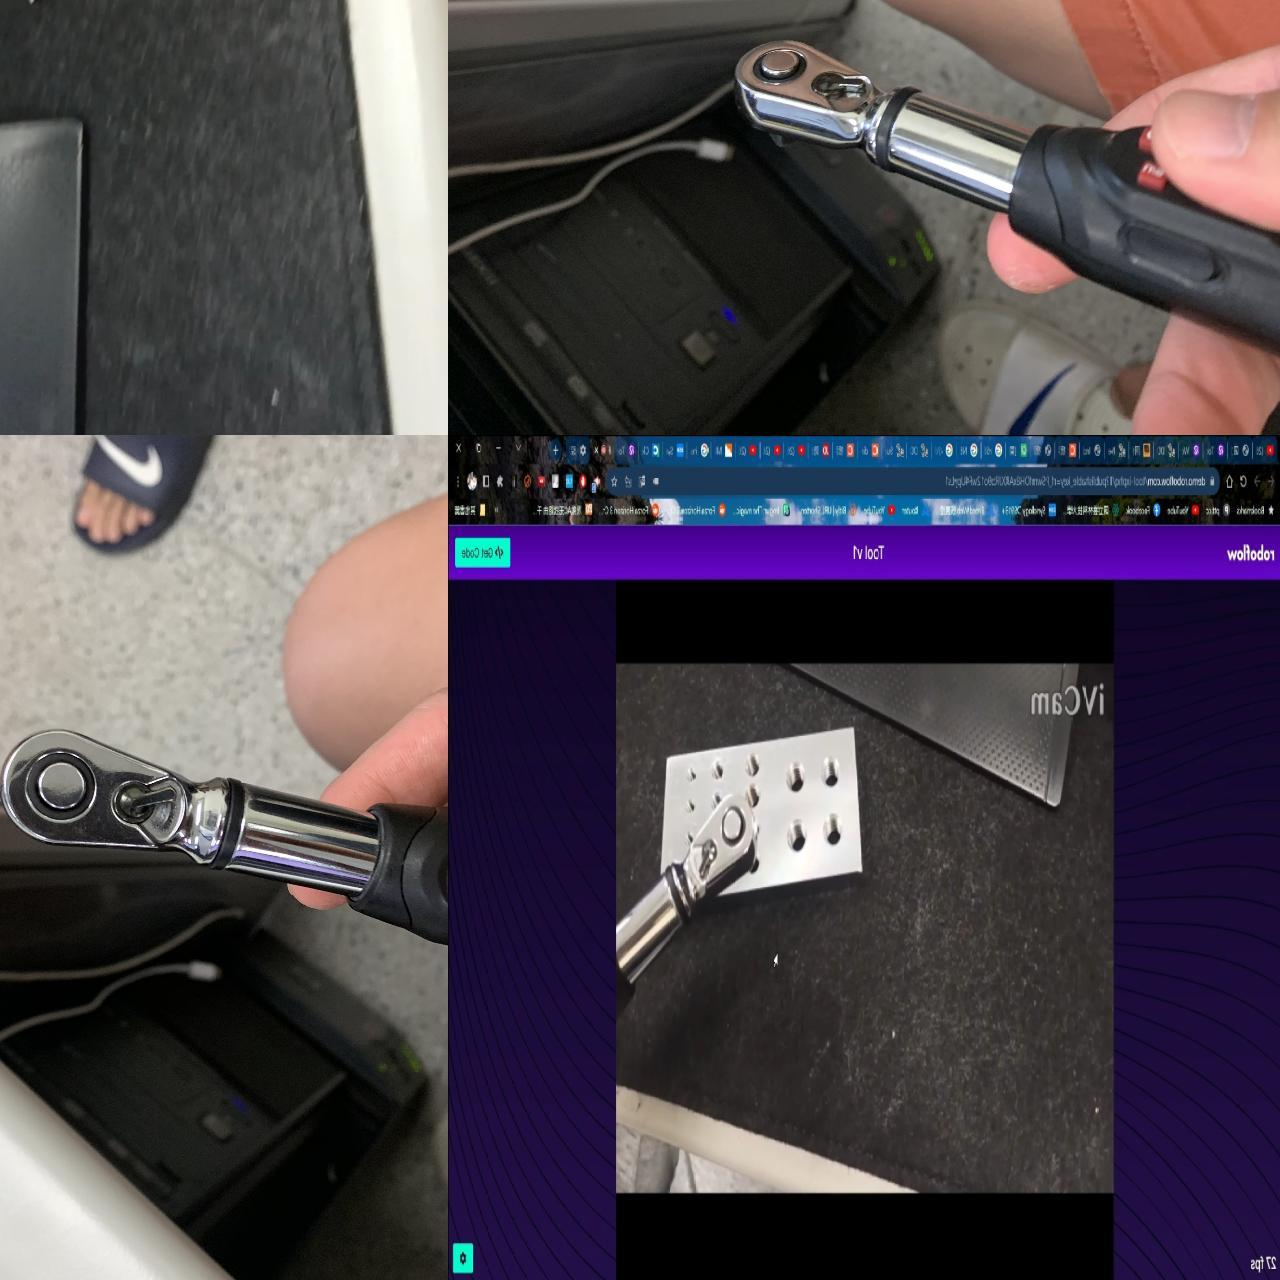Tool: (0, 726, 237, 857), (731, 36, 894, 165), (680, 789, 758, 894)
